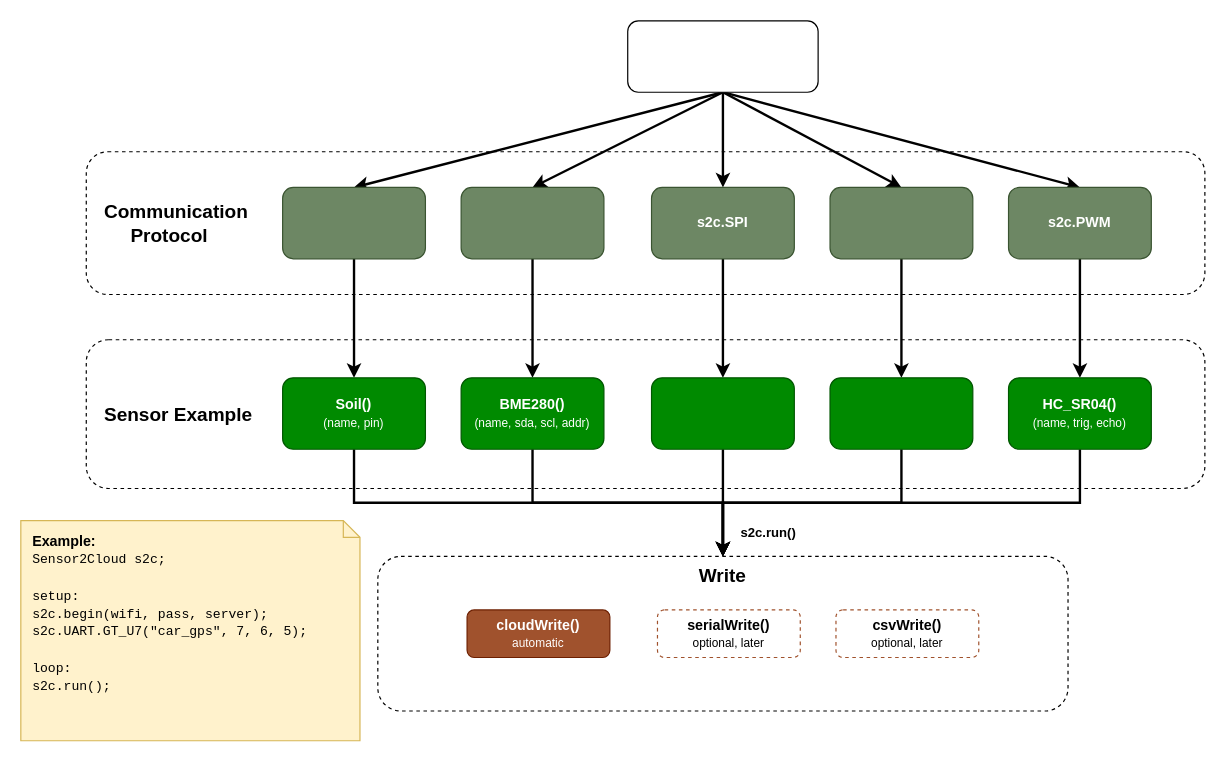
Some shapes in this 1226 by 762 pixel diagram are drawn without their labels. The centre of each missing label's shape, as x and y in pixels:
"BMI160() (name, mosi, miso, sck, cs)" goes at (x=722, y=413).
"GT_U7() (name, rx, tx, pps)" goes at (x=901, y=413).
"s2c.Analog" goes at (x=353, y=222).
"s2c.I2C" goes at (x=532, y=222).
"s2c.UART" goes at (x=901, y=222).
"Sensor2Cloud s2c begin() · run()" goes at (x=722, y=56).
